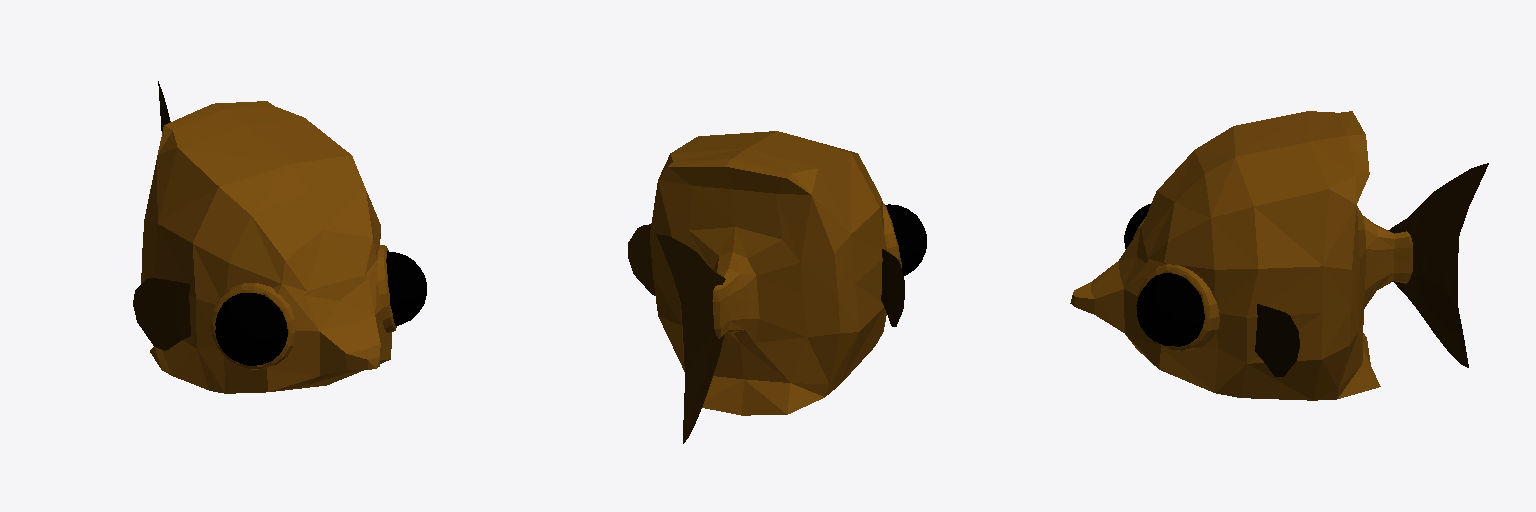
File: YellowTang.obj
3 renders of one model, left to right at view 1: azimuth 30°, elevation 25°; view 2: azimuth 150°, elevation 25°; view 3: azimuth 270°, elevation 25°, orthographic.
Visible parts, largest first — view 1: YellowTang_Icosphere.025; view 2: YellowTang_Icosphere.025; view 3: YellowTang_Icosphere.025.
Boxes of the visible parts, <box> form: YellowTang_Icosphere.025: <box>133,81,426,393</box>; YellowTang_Icosphere.025: <box>628,131,926,443</box>; YellowTang_Icosphere.025: <box>1070,111,1488,400</box>.
Size of the model in its own units: 3.22 by 2.87 by 4.48.